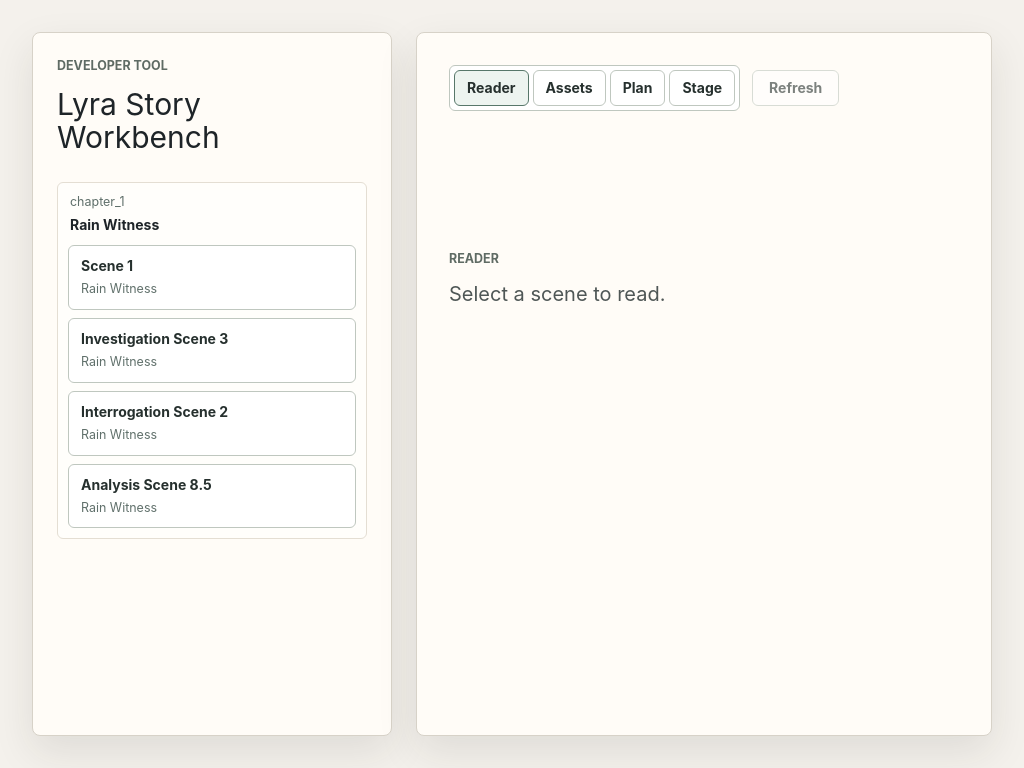
it: Lyra Story Workbench shell › filters cues and speakers in the Reader
This screenshot has width=1024, height=768.
Click the button "Scene 1 Rain Witness": (107, 266) [68,245,356,310]
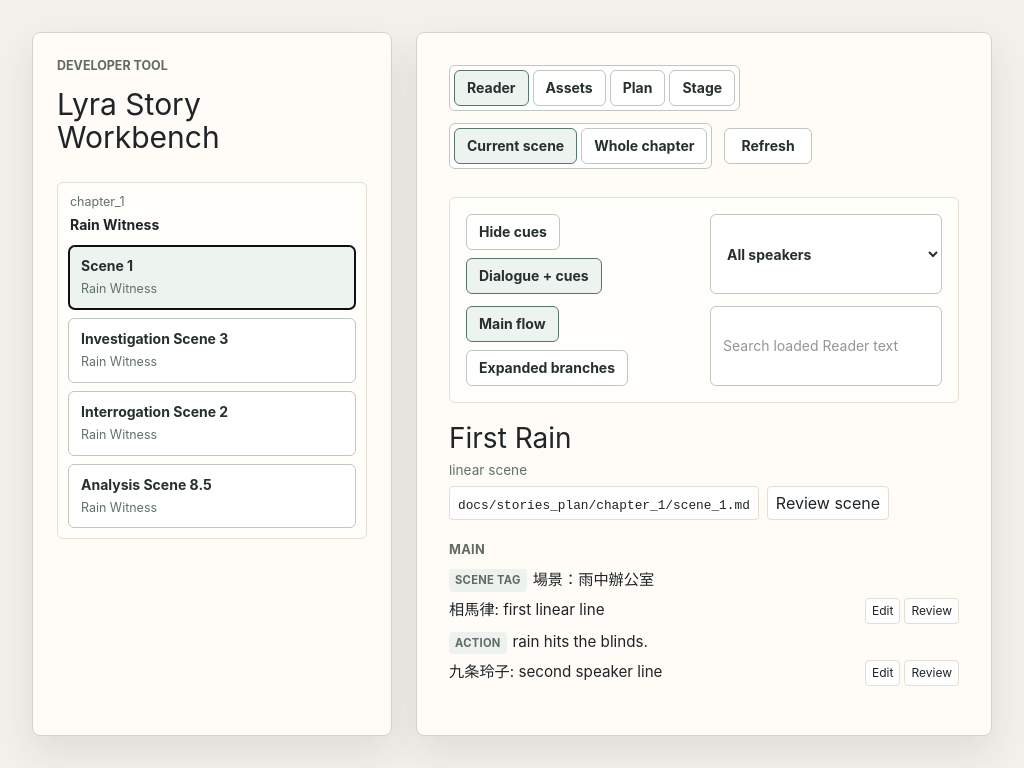
Click the button "Hide cues": (513, 232) [466,214,560,250]
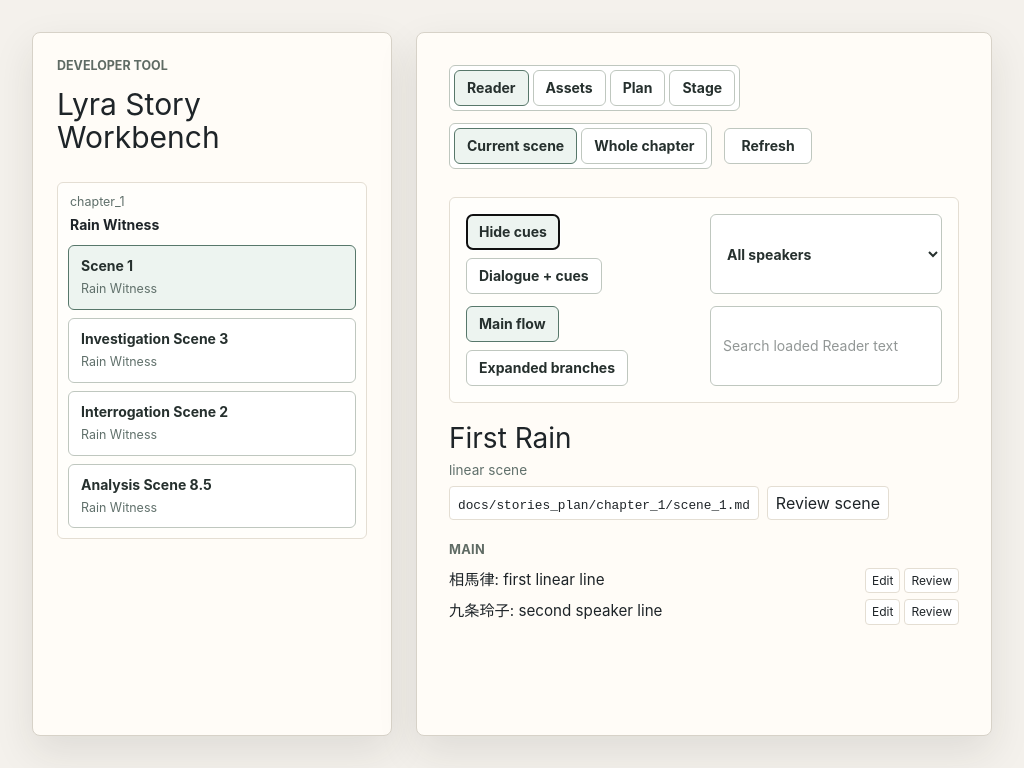
Check: the text "相馬律: first linear line" is shown, box [449,568,604,592]
Check: the text "rain hits the blinds." is gone
Check: the text "場景：雨中辦公室" is gone
Click the button "Dialogue + cues": (534, 276) [466,258,602,294]
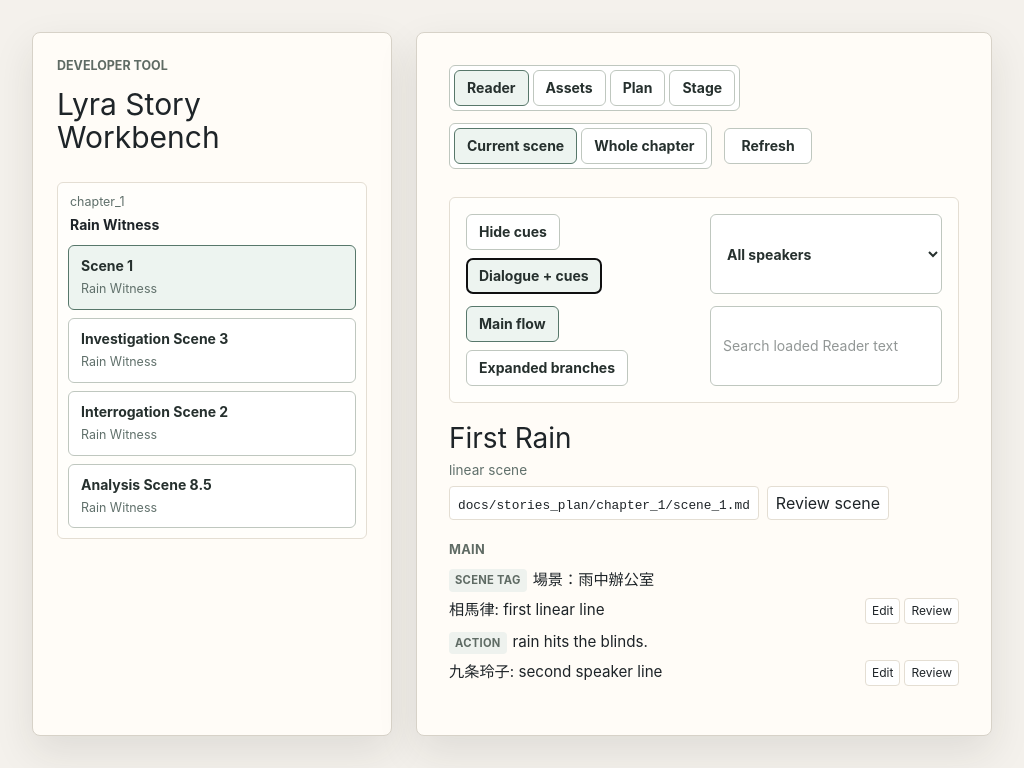
Check: the text "rain hits the blinds." is shown, box [513,632,648,651]
Select "九条玲子" in the dropdown named "Speaker": (826, 254) [710,214,942,294]
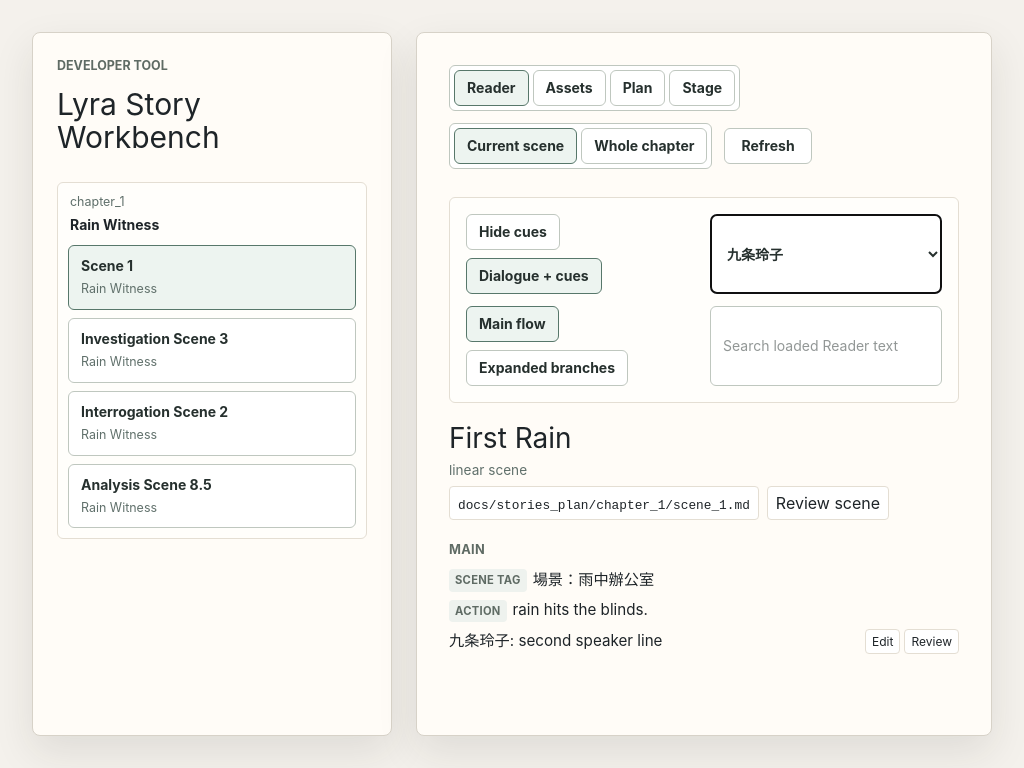
Check: the text "九条玲子: second speaker line" is shown, box [449,629,662,654]
Check: the text "相馬律: first linear line" is gone
Select "All speakers" in the dropdown named "Speaker": (826, 254) [710,214,942,294]
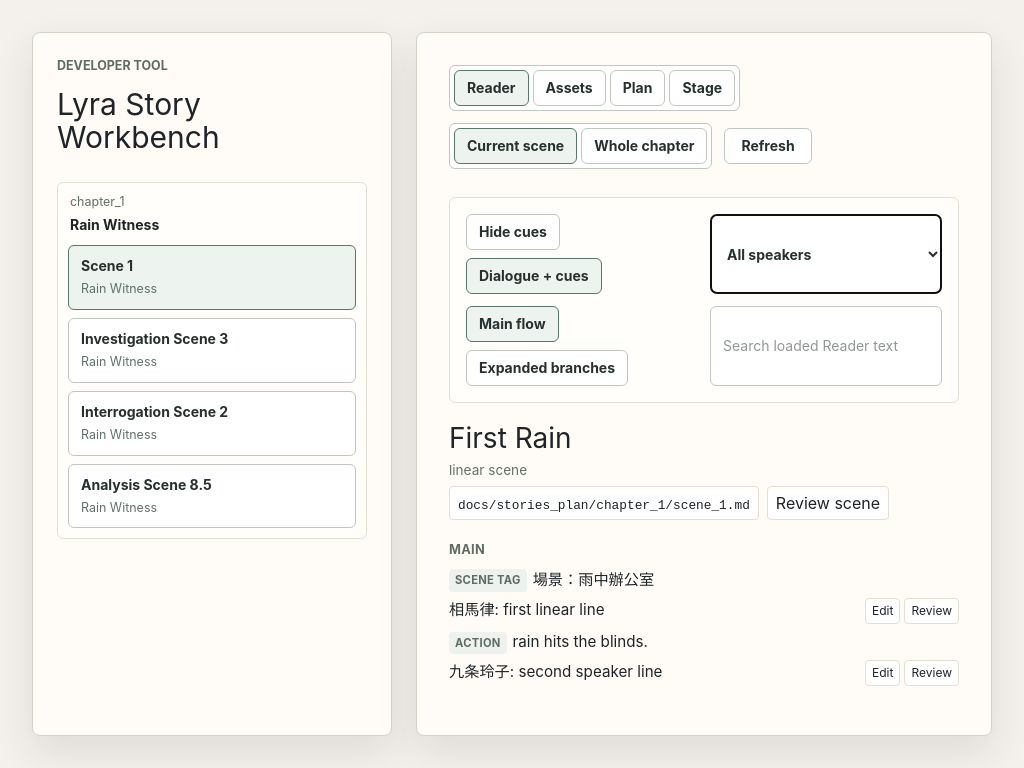
Check: the text "相馬律: first linear line" is shown, box [449,598,604,623]
